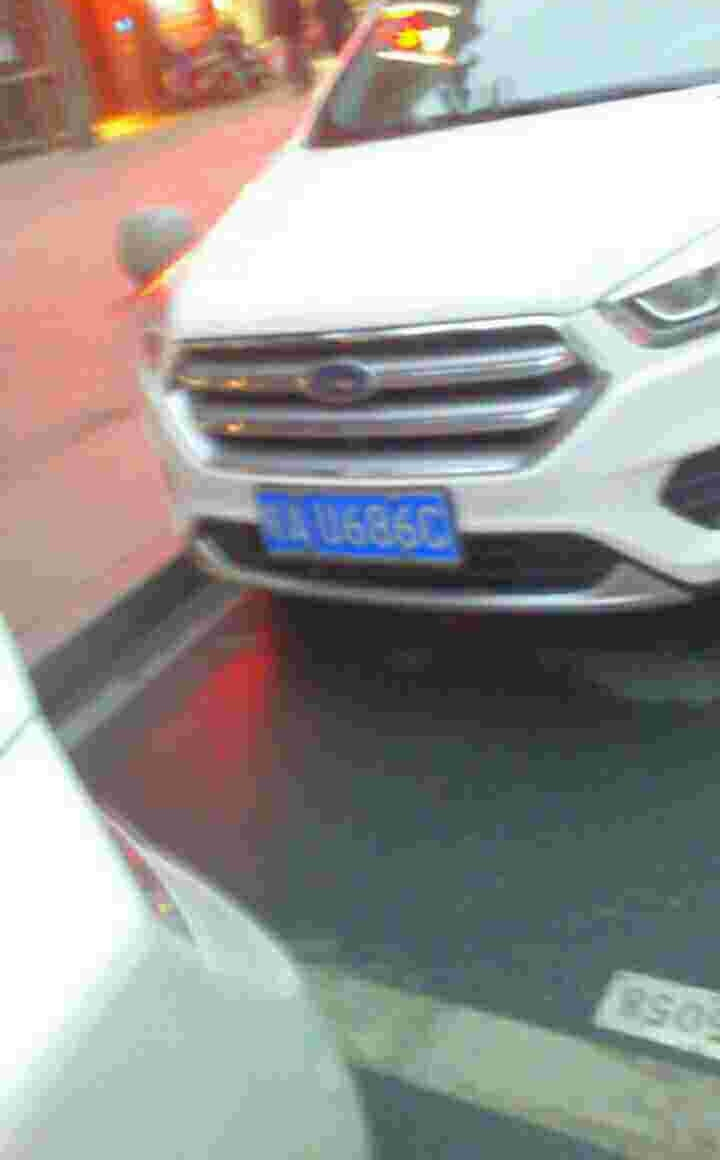car: (254, 484, 470, 563)
